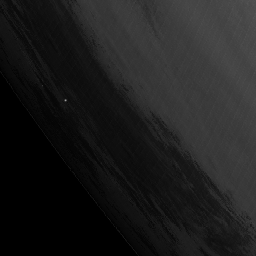Target: (62, 97, 68, 103)
